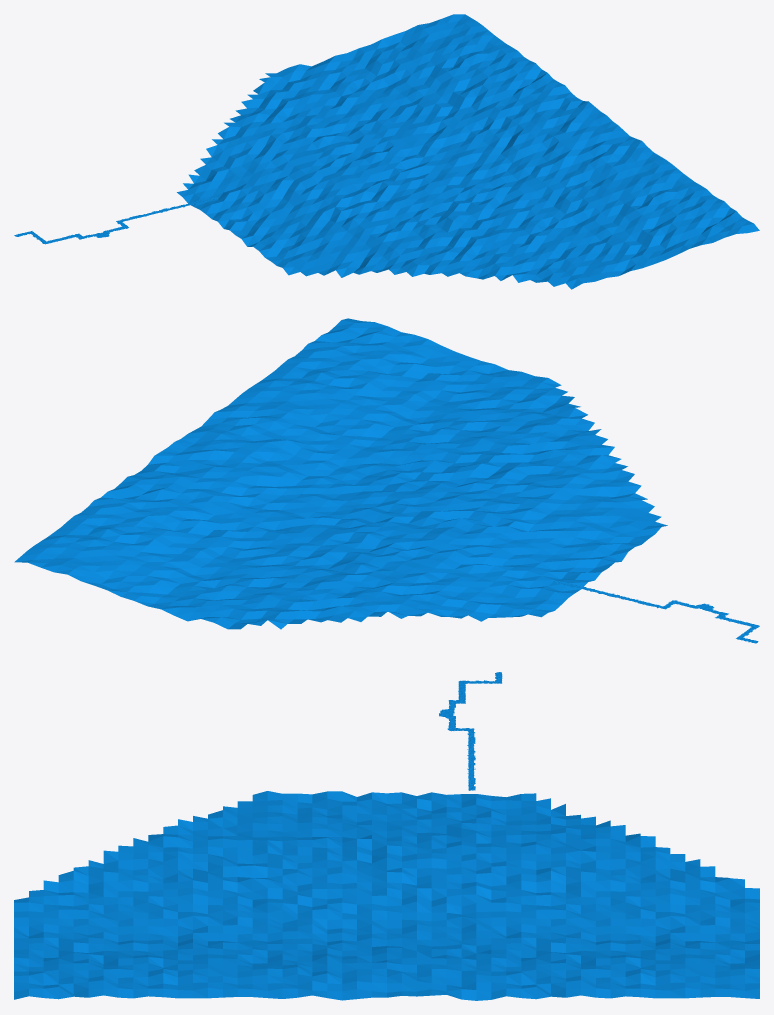
File: water.gltf
3 views of the same model, one above another, from view 1: azimuth 30°, elevation 25°; view 2: azimuth 150°, elevation 25°; view 3: azimuth 270°, elevation 25° (orthographic). The views are drawn at different scales.
Visible parts, largest first — view 1: sea, river; view 2: sea, river; view 3: sea, river.
Boxes of the visible parts, x1,y1,x2,y2 form: sea: (177,14,759,289); river: (14,196,217,244); sea: (14,318,667,629); river: (551,580,759,643); sea: (14,791,759,1000); river: (439,672,502,790).
Size of the model in its own units: 433 by 21.05 by 400.
